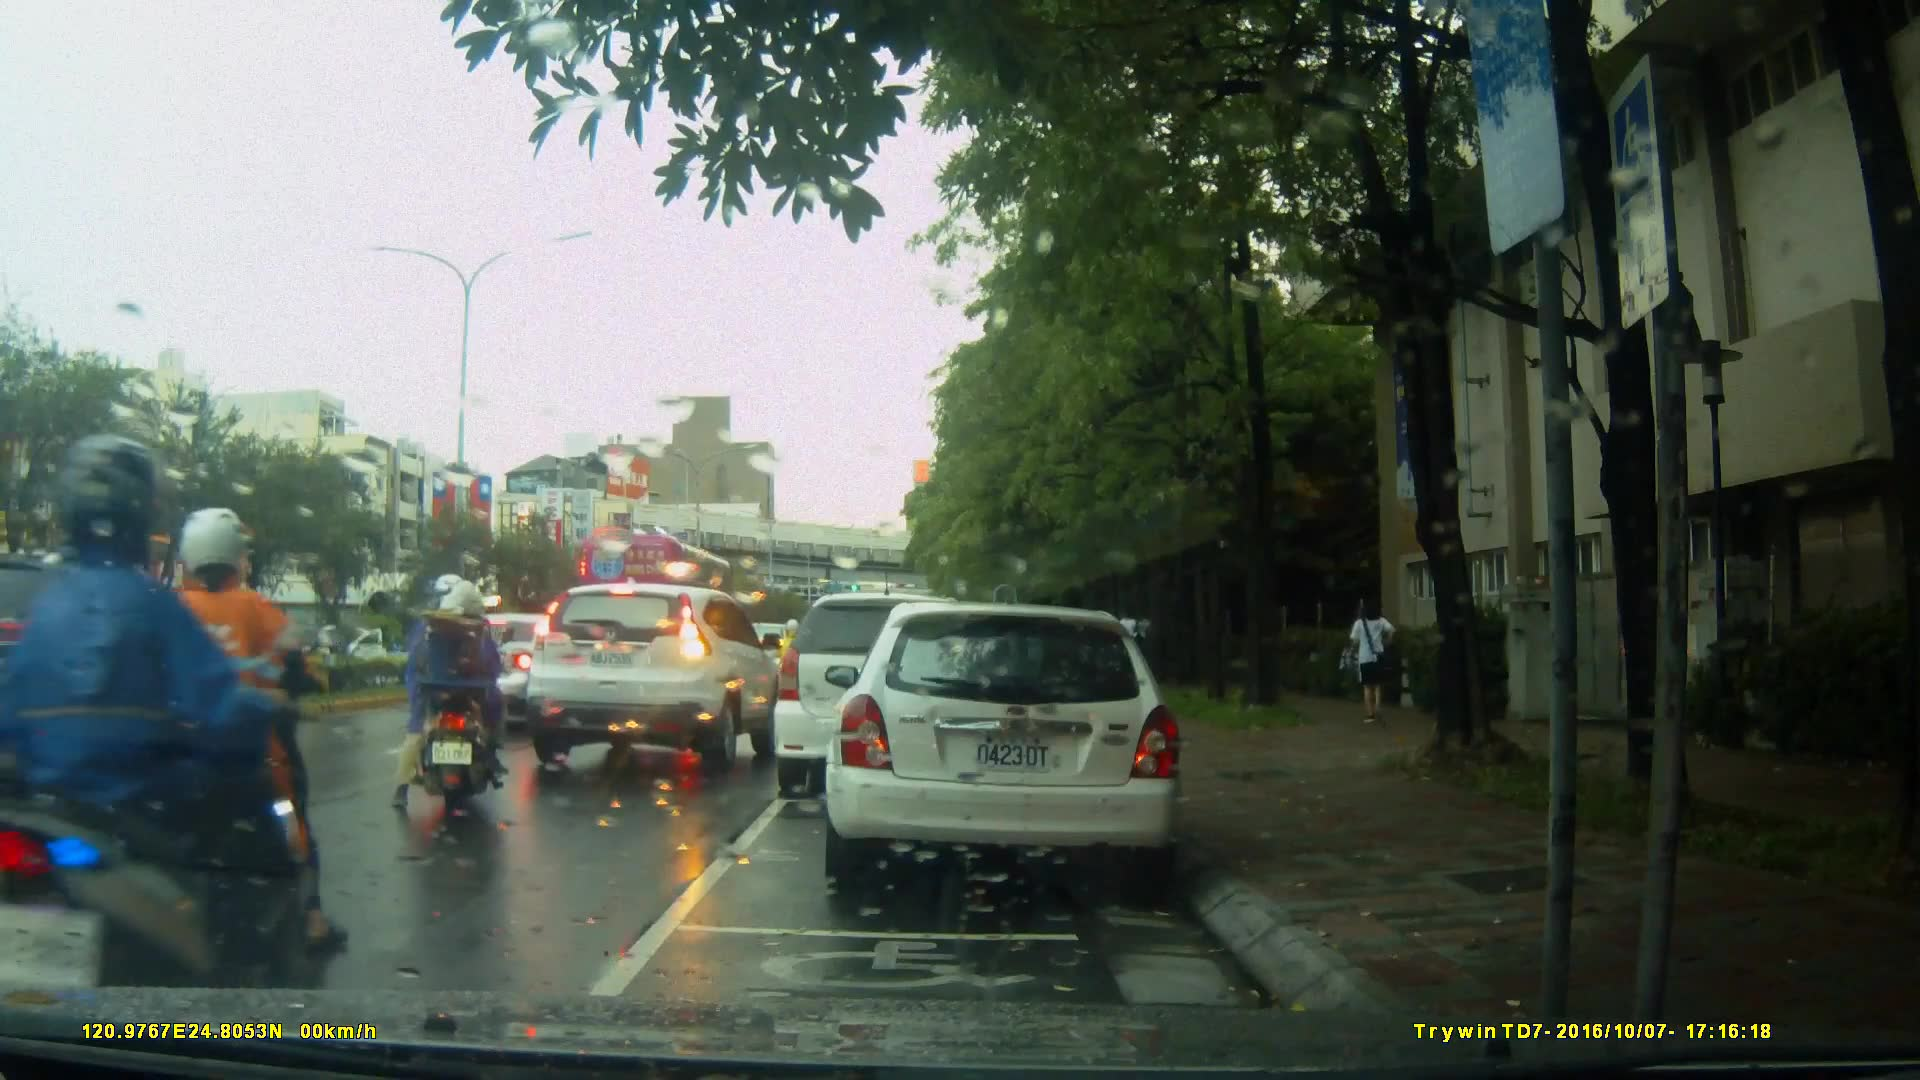pedestrian: (1338, 586, 1402, 741), (1116, 603, 1145, 685)
rider: (5, 427, 319, 1043), (61, 504, 323, 971), (400, 585, 516, 820), (773, 614, 806, 712)
vehicle: (835, 594, 1194, 898), (1, 545, 261, 768), (513, 584, 793, 778), (776, 590, 1026, 784), (574, 530, 736, 634)
